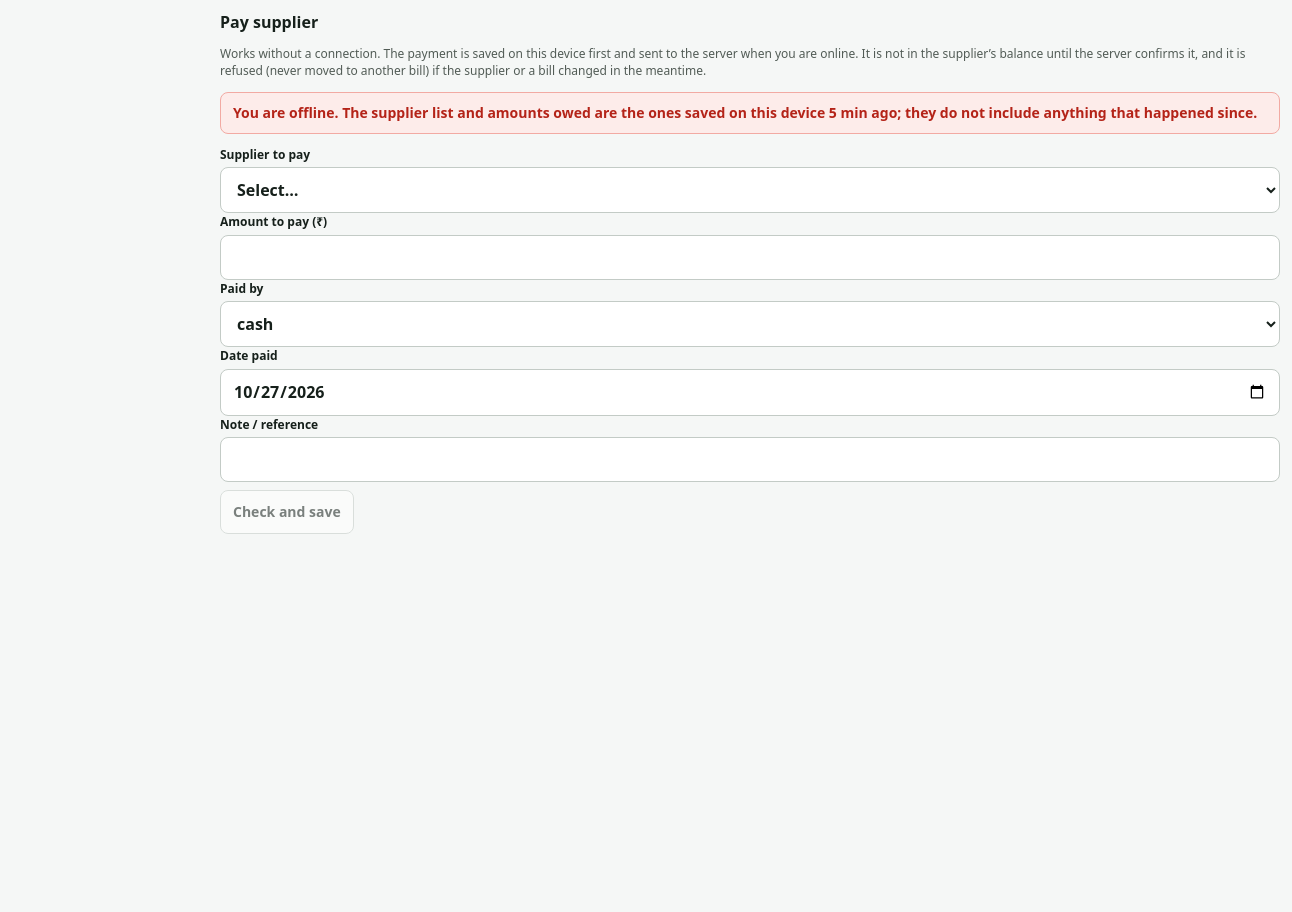
it: the confirm step shows the payment date clearly
The width and height of the screenshot is (1292, 912).
Select "Acme Traders — owed ₹15,000.00" in the dropdown labelled "Supplier to pay" at (750, 190), box [220,167,1280,213]
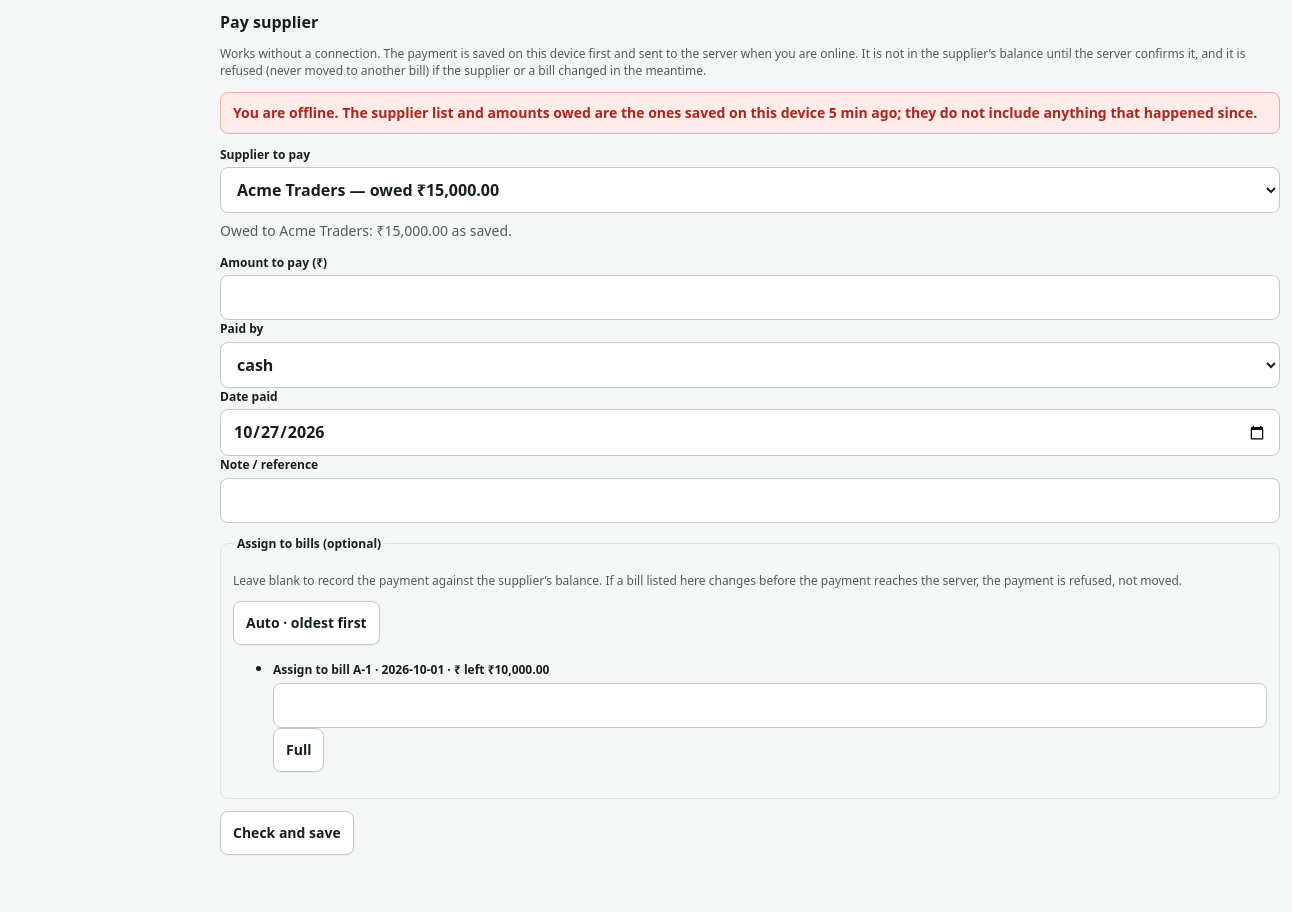
Type "500" into the field labelled "Amount to pay (₹)" at (750, 298), box [220,275,1280,320]
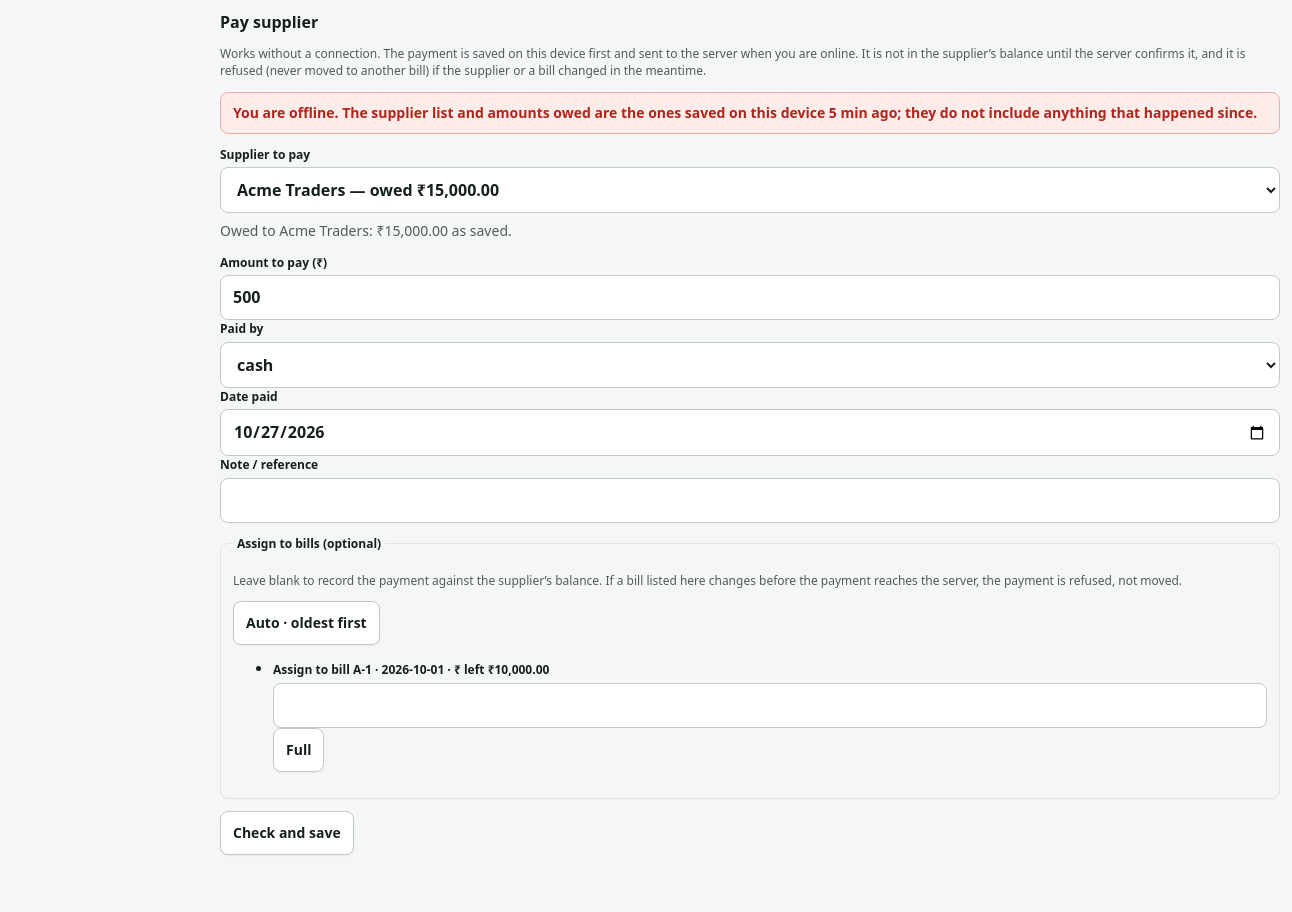
Submit the form
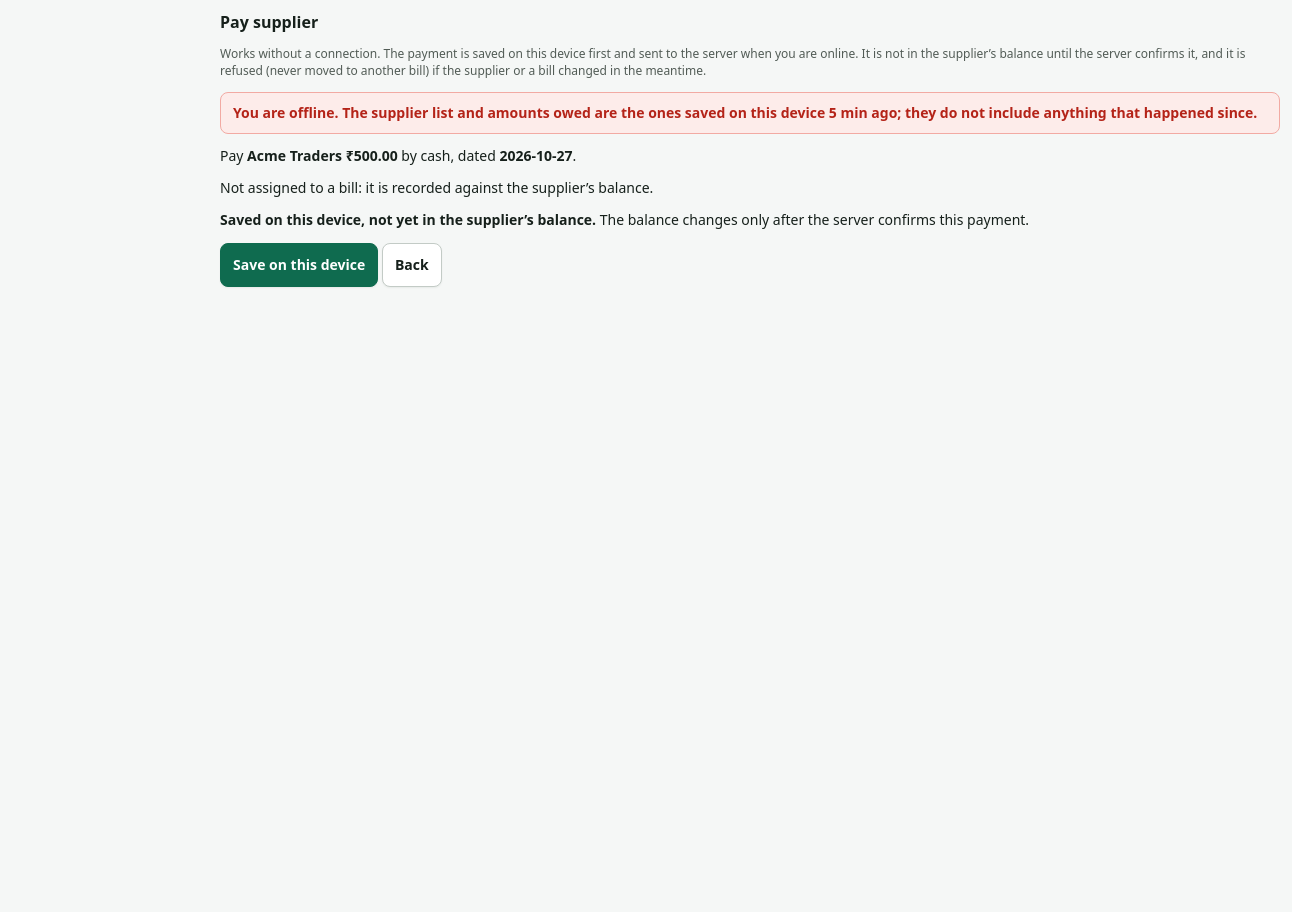
Now the text with test id "pay-review-date" reads "2026-10-27", box [500,146,573,165]
